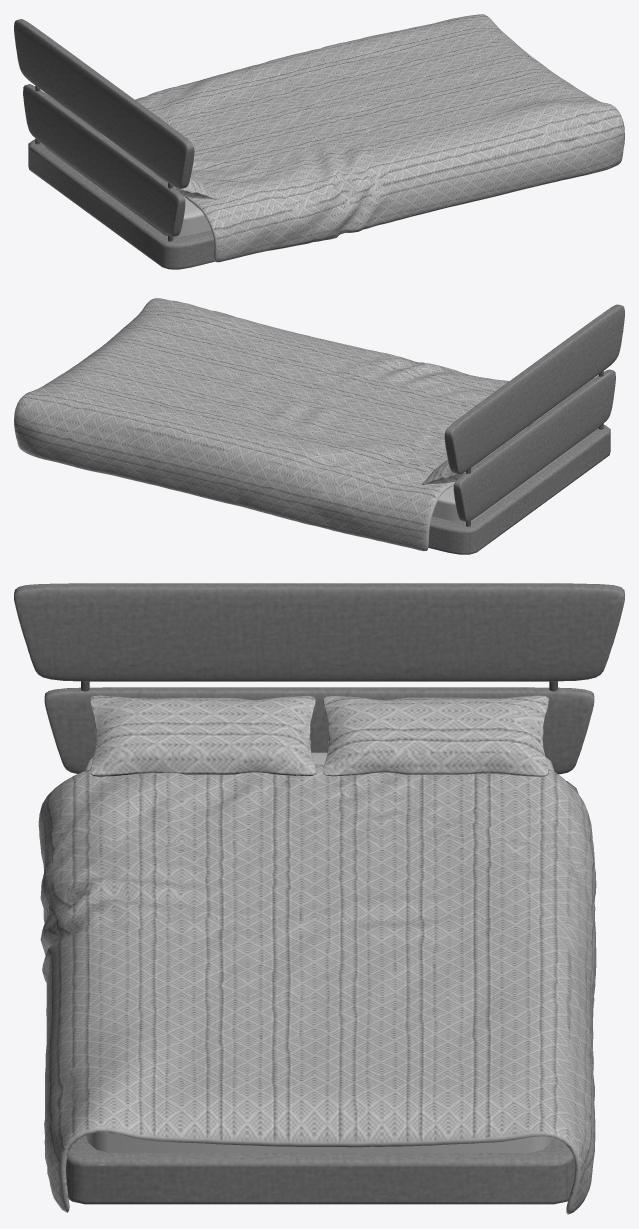
Rendered from bed-3-draco.glb.
3 views of the same model, one above another, from view 1: azimuth 30°, elevation 25°; view 2: azimuth 150°, elevation 25°; view 3: azimuth 270°, elevation 25° (orthographic). The views are drawn at different scales.
Parts seen in each view (by area): view 1: Modern Bed; view 2: Modern Bed; view 3: Modern Bed.
Boxes of the visible parts, x1,y1,x2,y2 form: Modern Bed: [14, 14, 624, 269]; Modern Bed: [14, 298, 624, 554]; Modern Bed: [14, 583, 624, 1214].
Size of the model in its own units: 4.28 by 1.33 by 2.81.
Materials: 1 (1 with a texture image).
